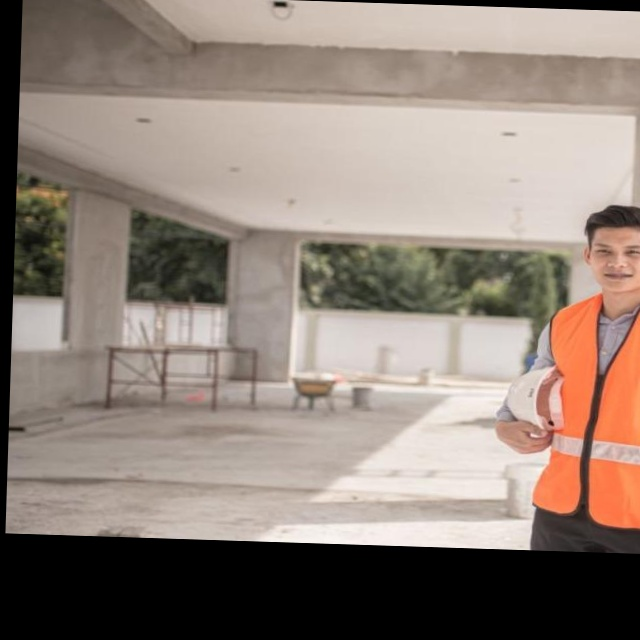Con_Chaleco: (532, 290, 640, 531)
Sin_Casco_Mascarrilla: (577, 202, 640, 295)
